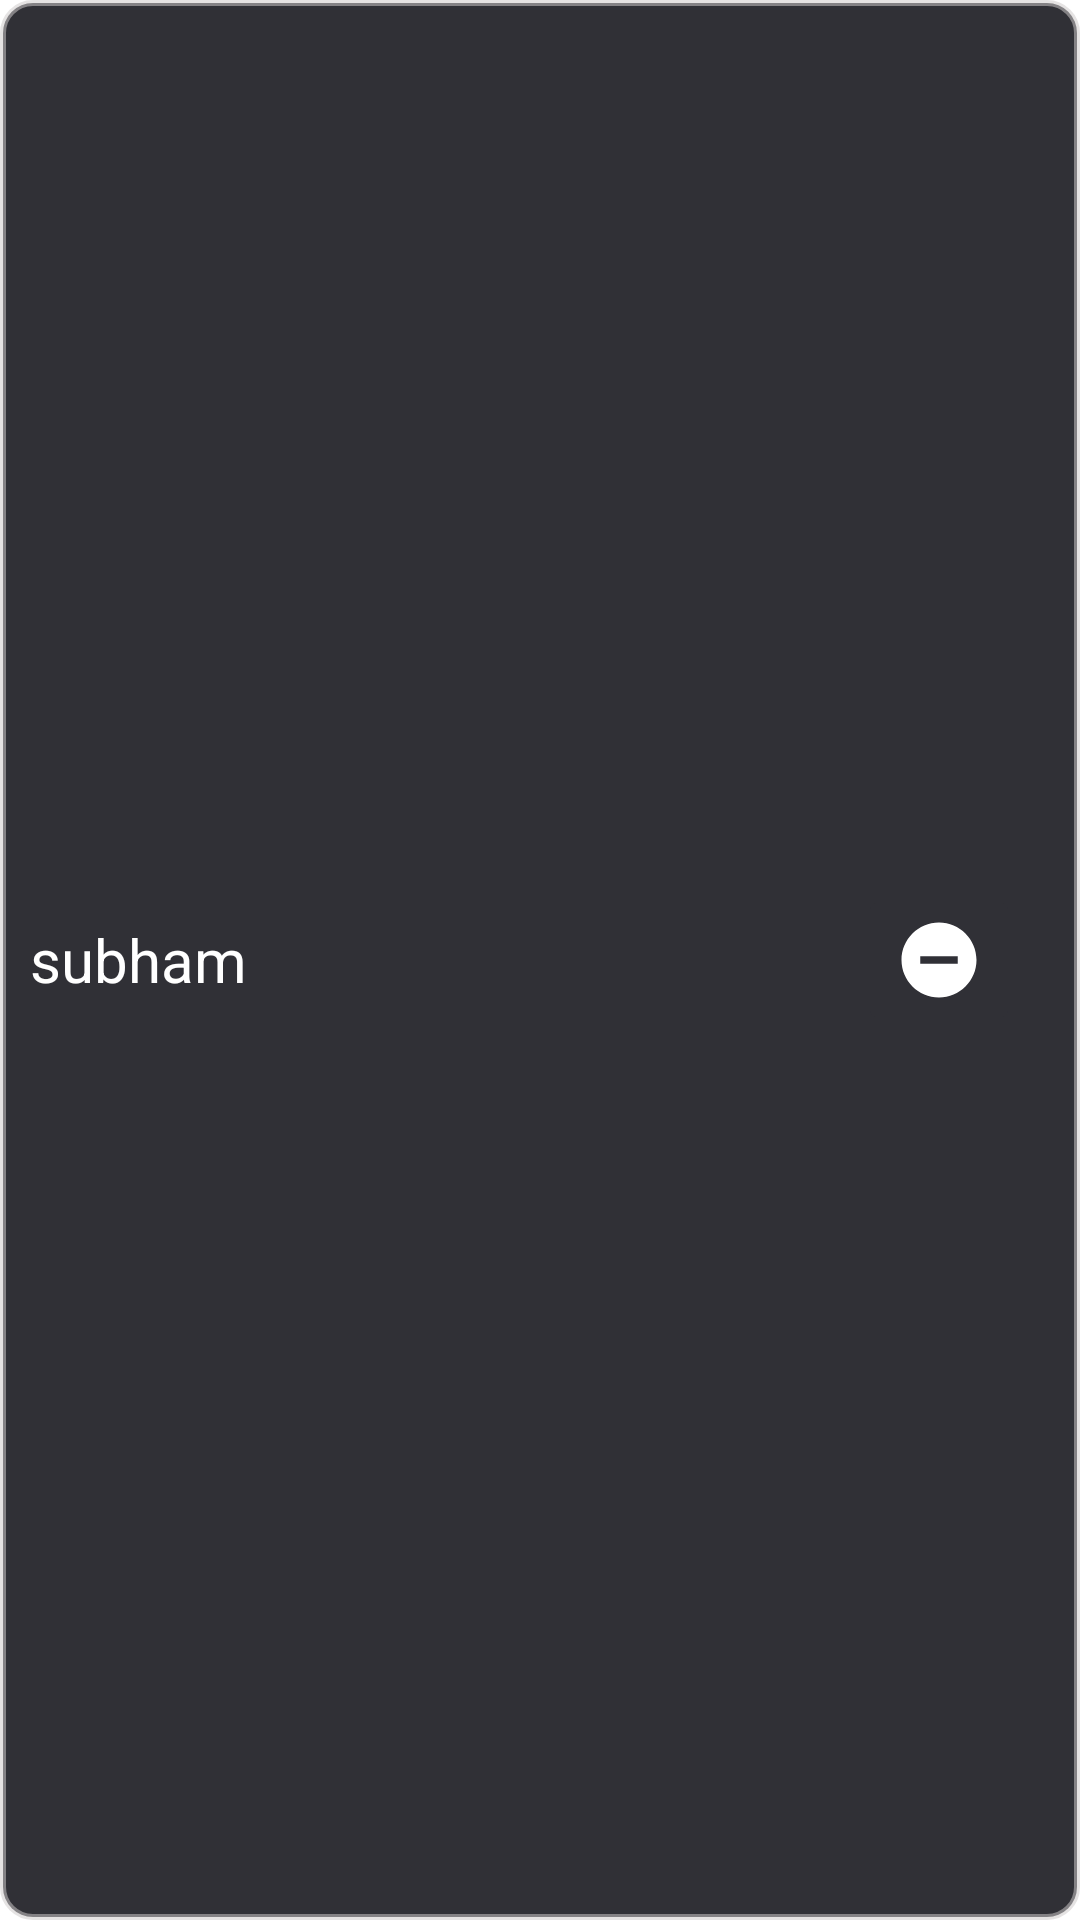

Screen size 1080px×1920px. Icon name, then its box in pixels as (x1, y1, x2, y2):
remove: (901, 922, 977, 998)
